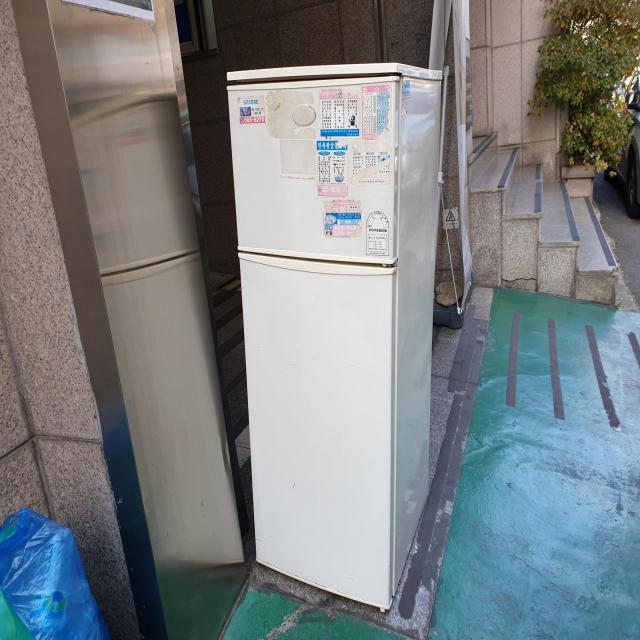refrigerator: (226, 62, 444, 612)
